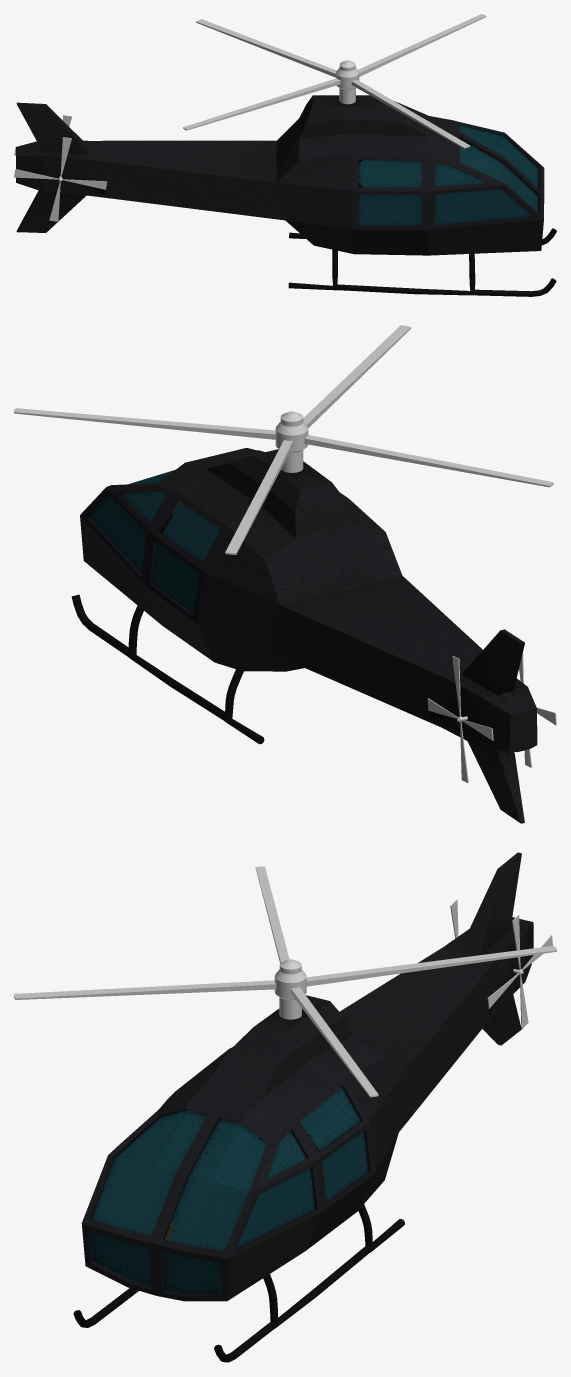
Rendered from anim_000085.obj.
The picture shows the model from 3 angles, top to bottom: view 1: azimuth 30°, elevation 25°; view 2: azimuth 150°, elevation 25°; view 3: azimuth 270°, elevation 25°; orthographic projection. The views are drawn at different scales.
Visible parts, largest first — view 1: Helicopter.007_Cylinder.008, Helicopter.001_Cylinder.001, Helicopter.004_Cylinder.005; view 2: Helicopter.007_Cylinder.008, Helicopter.001_Cylinder.001, Helicopter.003_Cylinder.004; view 3: Helicopter.007_Cylinder.008, Helicopter.001_Cylinder.001, Helicopter.003_Cylinder.004.
Part boxes in pixels (x1,y1,x2,y2): Helicopter.007_Cylinder.008: (16, 95, 556, 296); Helicopter.001_Cylinder.001: (183, 14, 486, 148); Helicopter.004_Cylinder.005: (14, 137, 107, 221); Helicopter.007_Cylinder.008: (71, 448, 537, 823); Helicopter.001_Cylinder.001: (14, 325, 553, 554); Helicopter.003_Cylinder.004: (427, 656, 493, 782); Helicopter.007_Cylinder.008: (73, 852, 533, 1362); Helicopter.001_Cylinder.001: (14, 866, 556, 1097); Helicopter.003_Cylinder.004: (487, 915, 552, 1028).
Bounding box in the file's own units: 7.09 × 3.21 × 5.46.
